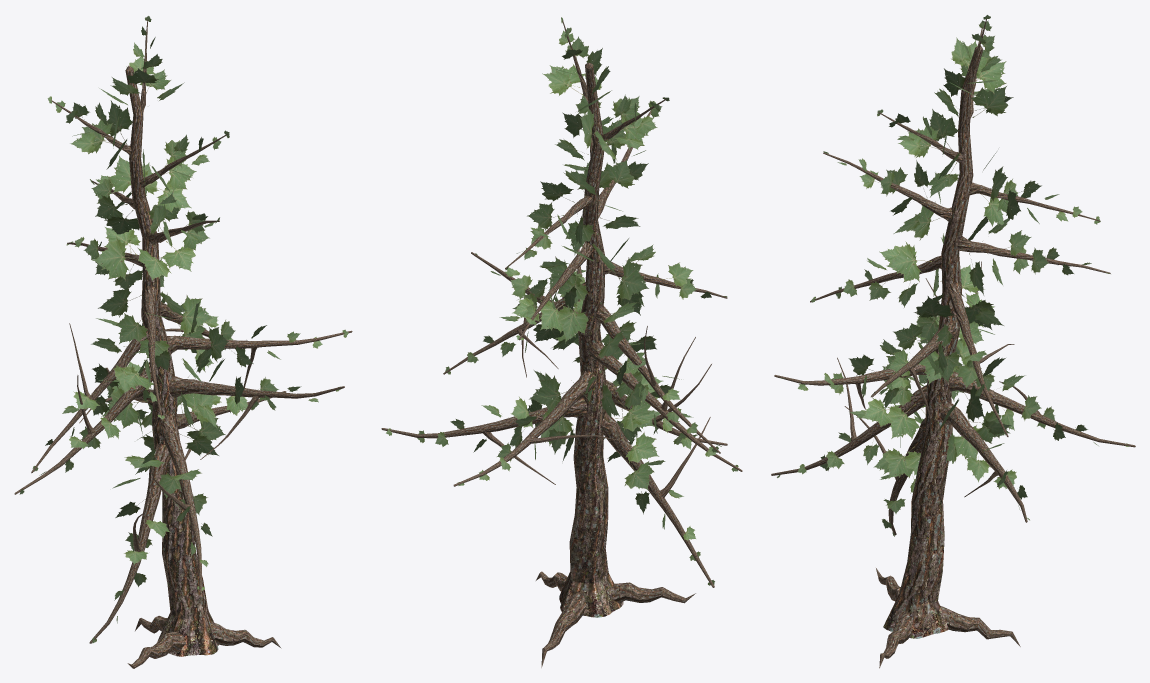
File: treedos.FBX
3 views of the same model, side by side, from view 1: azimuth 30°, elevation 25°; view 2: azimuth 150°, elevation 25°; view 3: azimuth 270°, elevation 25° (orthographic).
Visible parts, largest first — view 1: Tree_0; view 2: Tree_0; view 3: Tree_0.
Part boxes in pixels (x1,y1,x2,y2): Tree_0: (14,16,352,668); Tree_0: (381,17,742,667); Tree_0: (771,15,1135,668).
Bounding box in the file's own units: 144 × 277 × 145.
